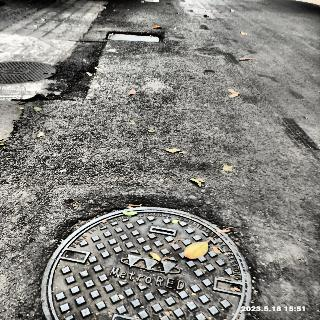pothole: (103, 29, 165, 46), (12, 96, 52, 104)
